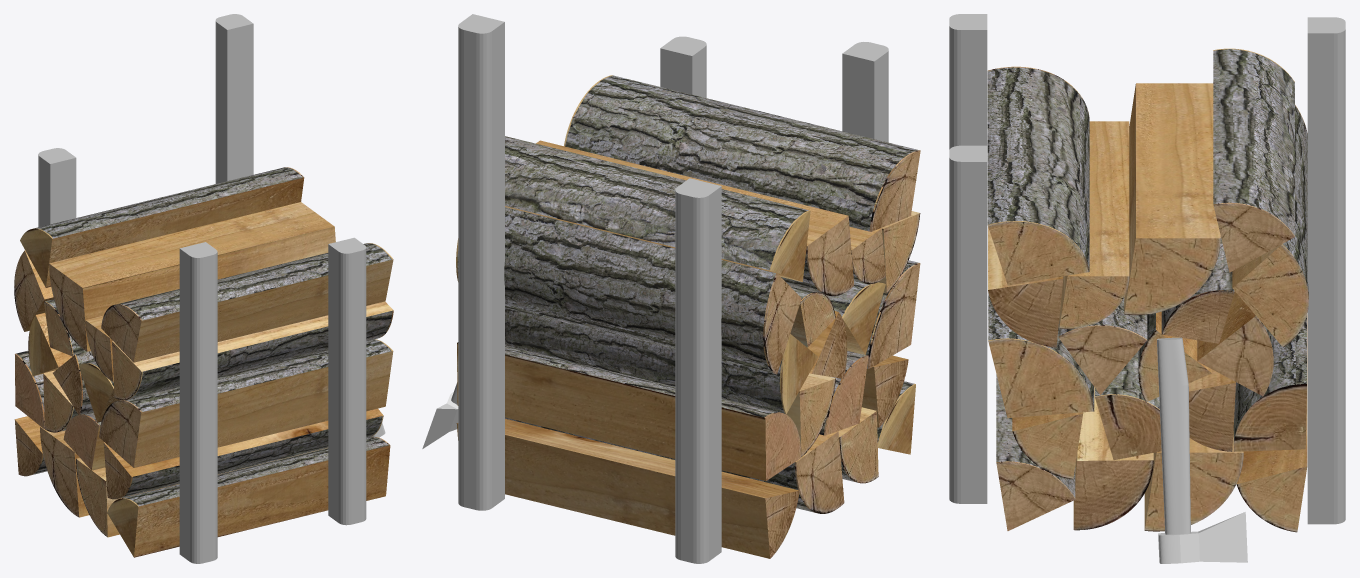
File: polennica_kolot1_LOD.fbx
3 views of the same model, side by side, from view 1: azimuth 30°, elevation 25°; view 2: azimuth 150°, elevation 25°; view 3: azimuth 270°, elevation 25° (orthographic). The views are drawn at different scales.
Visible parts, largest first — view 1: Cube_LOD0; view 2: Cube_LOD0; view 3: Cube_LOD0.
Boxes of the visible parts, left/top/right/bottom form: Cube_LOD0: left=14, top=14, right=393, bottom=563; Cube_LOD0: left=422, top=14, right=920, bottom=563; Cube_LOD0: left=949, top=14, right=1345, bottom=563.
Size of what is drawn, in the model's own units: 215 by 255 by 186.
